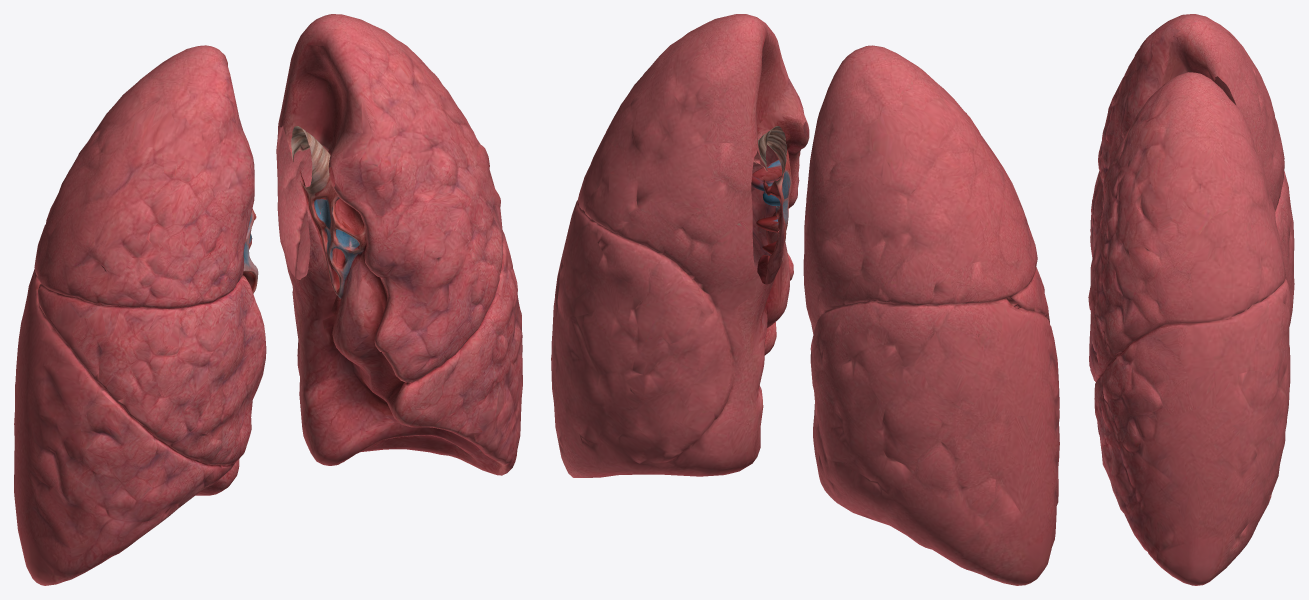
File: lung-sim-pro-lungs.glb
The picture shows the model from 3 angles, left to right: view 1: azimuth 30°, elevation 25°; view 2: azimuth 150°, elevation 25°; view 3: azimuth 270°, elevation 25°; orthographic projection. The views are drawn at different scales.
Parts seen in each view (by area): view 1: RightLung, LeftLung; view 2: RightLung, LeftLung; view 3: LeftLung, RightLung.
Boxes of the visible parts, bbox=[...] form: RightLung: bbox=[14, 45, 266, 585]; LeftLung: bbox=[276, 14, 522, 475]; RightLung: bbox=[803, 45, 1059, 585]; LeftLung: bbox=[551, 14, 809, 477]; LeftLung: bbox=[1088, 72, 1291, 585]; RightLung: bbox=[1090, 14, 1294, 326].
Bounding box in the file's own units: 1.84 × 1.79 × 0.7579.
Materials: 1 (1 with a texture image).
